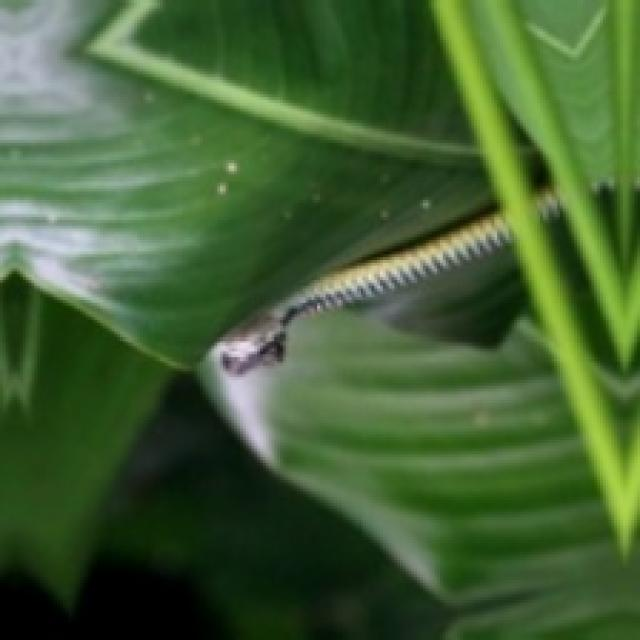paradise tree snake: (214, 211, 509, 374)
